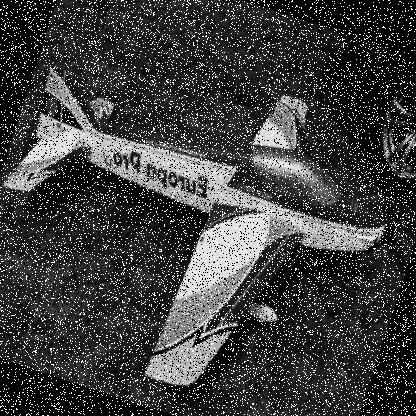Car: (289, 29, 415, 207)
